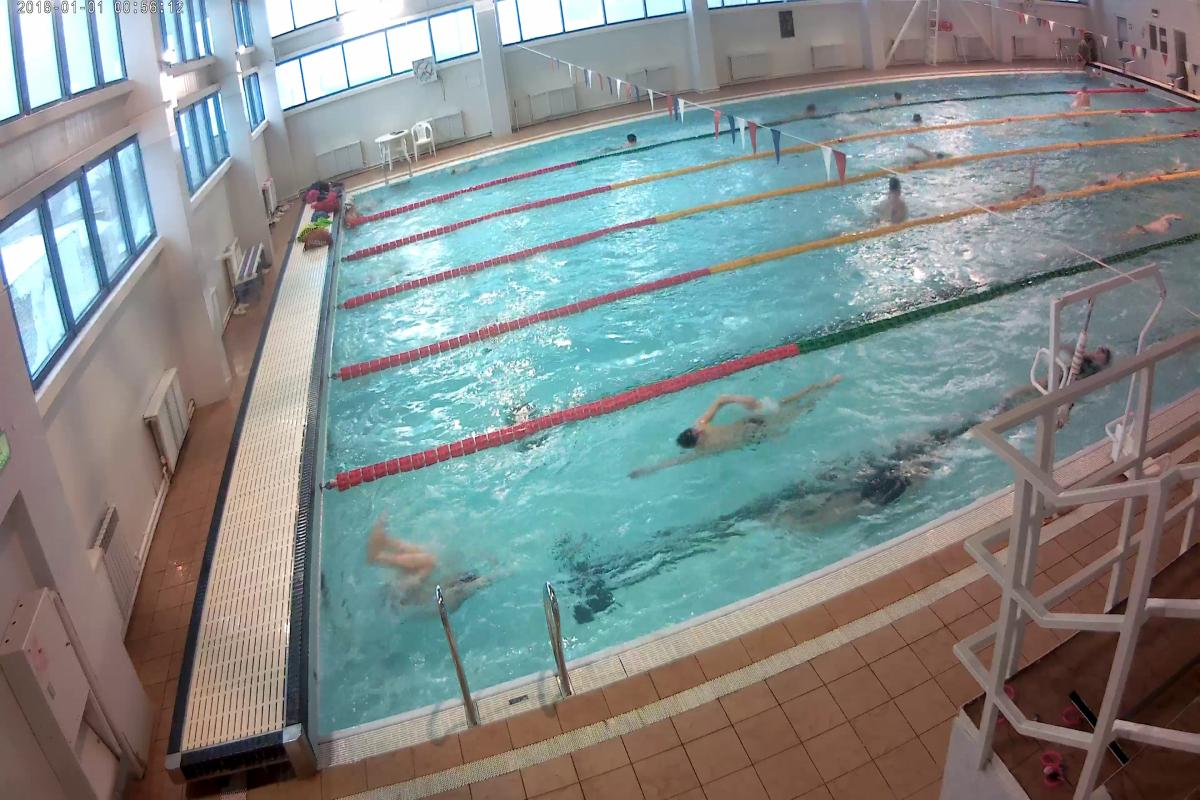swimmer: (630, 363, 850, 473), (803, 438, 940, 518), (364, 537, 489, 616), (1113, 208, 1191, 251), (870, 182, 917, 236), (1007, 155, 1058, 196), (1083, 336, 1119, 375), (1068, 80, 1097, 111), (902, 110, 935, 125)
